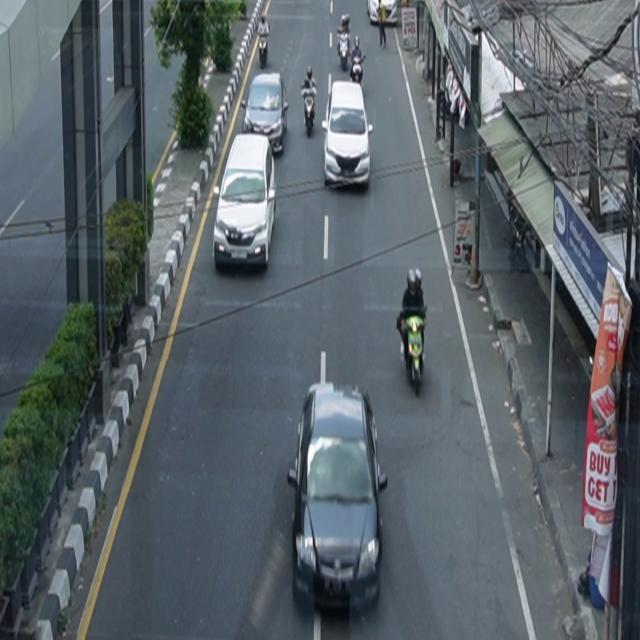car: (288, 381, 389, 614), (213, 133, 277, 271), (322, 81, 374, 189), (242, 73, 290, 156)
